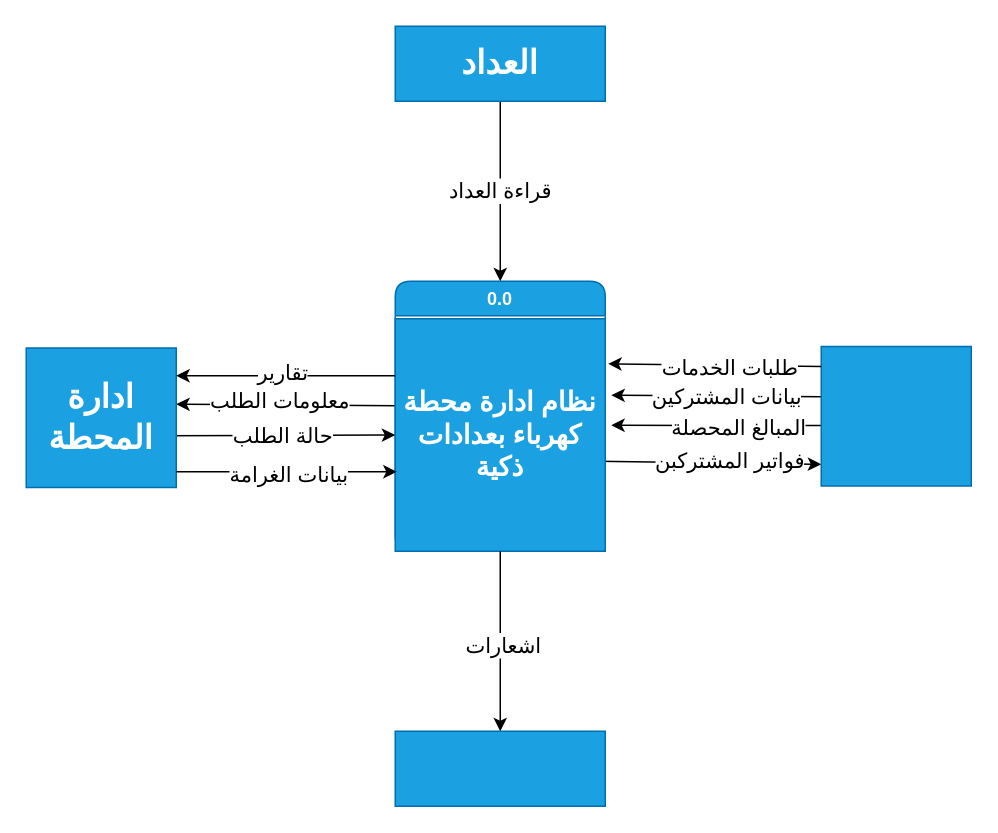
This 998x833 diagram has some shape labels left out. The centre of each missing label's shape, as x and y in pixels:
مشترك: [499,768]
موظف: [895,415]
